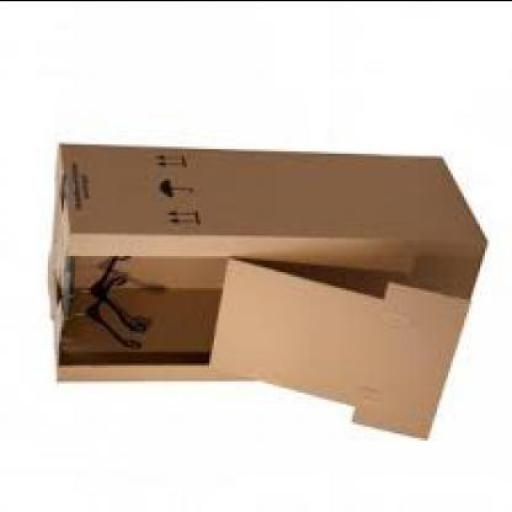cardboard: (45, 146, 485, 382), (205, 260, 473, 439)
